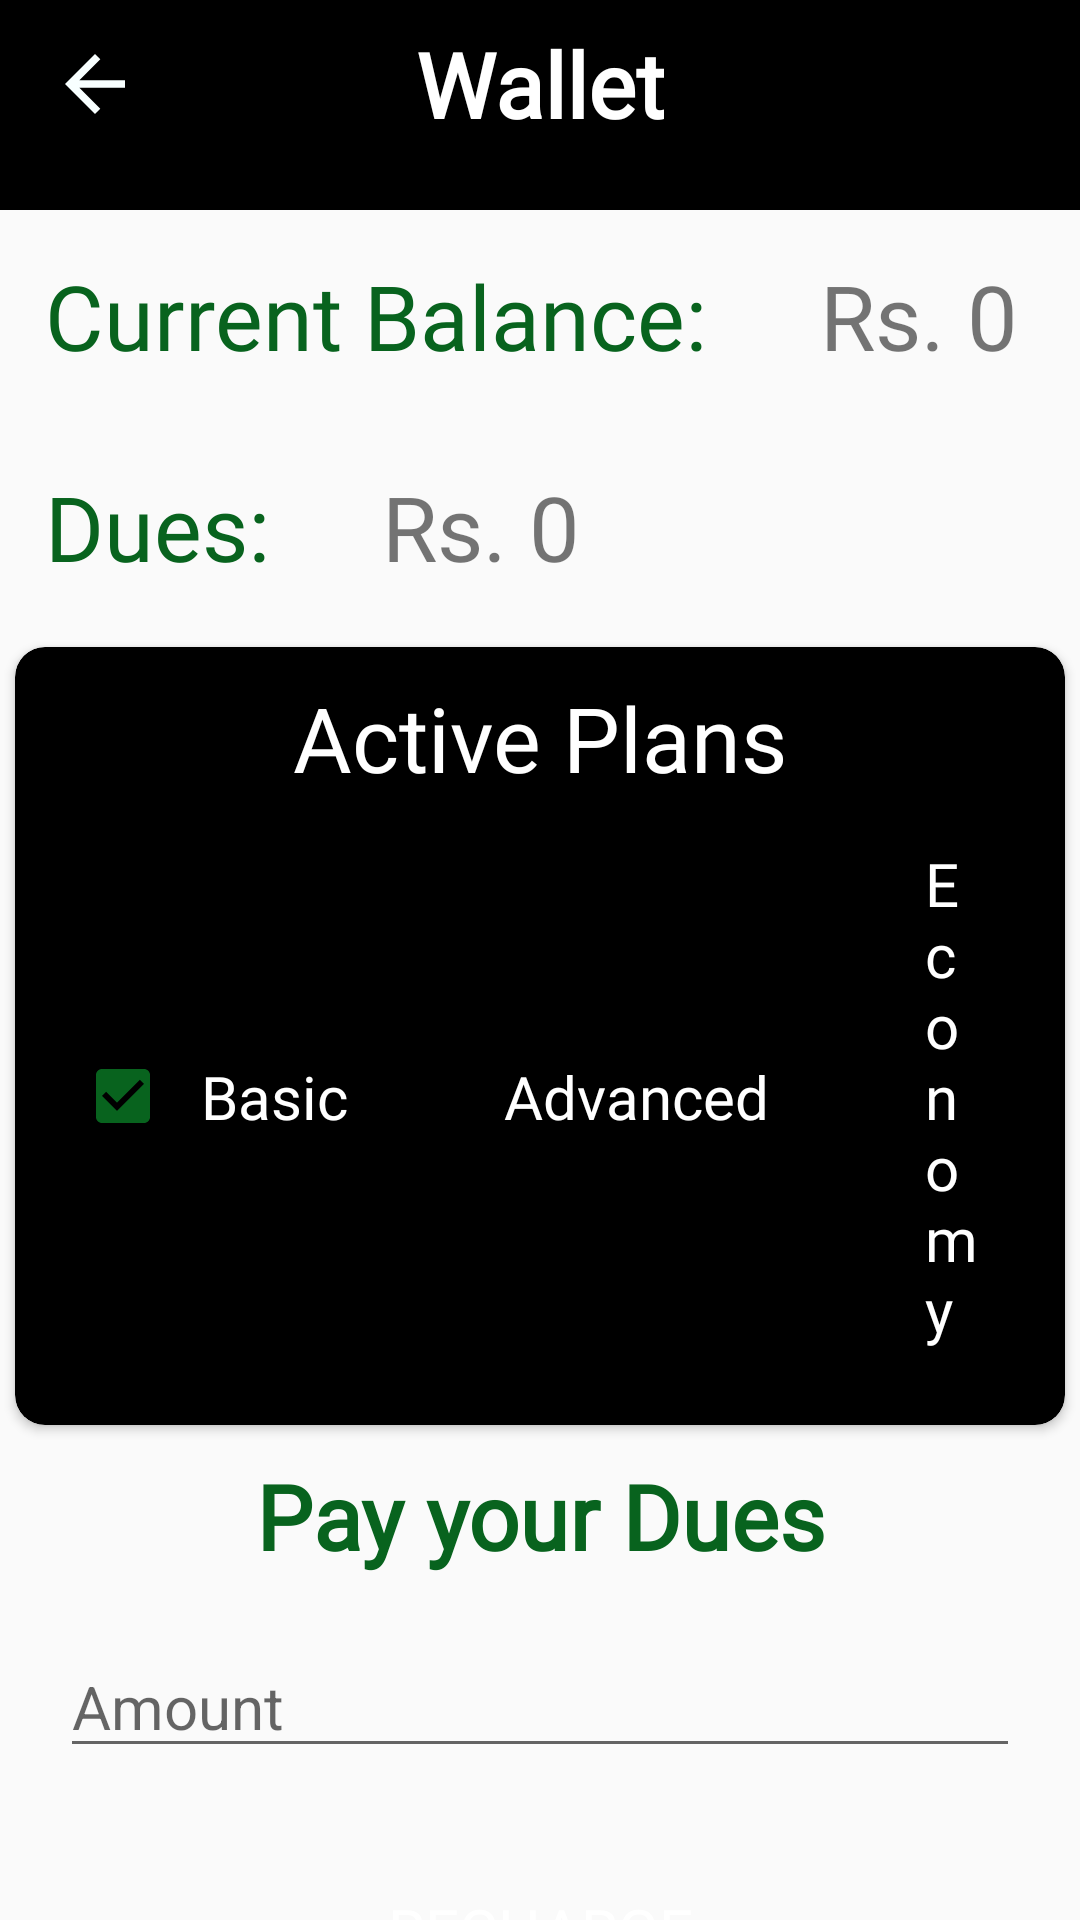

Where to tap for icons on this 1080 x 1920 app screen, as (x,y):
arrow back: (95,84)
